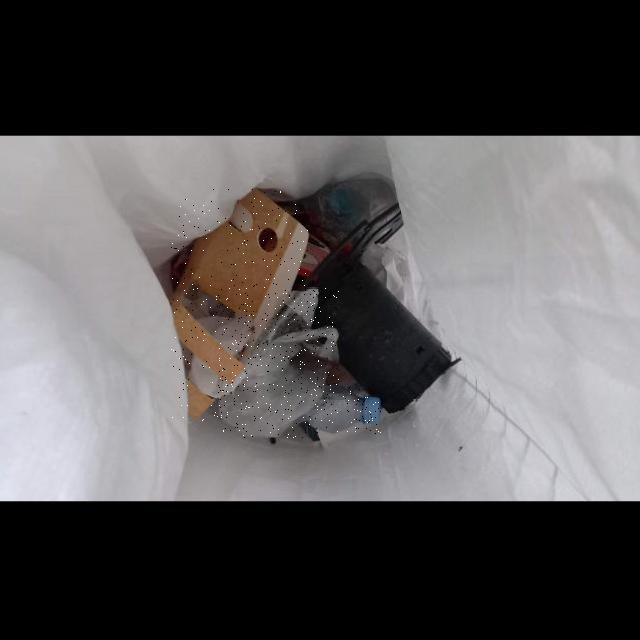paper: (171, 189, 309, 420)
plastic: (219, 288, 339, 437), (301, 388, 381, 434)
